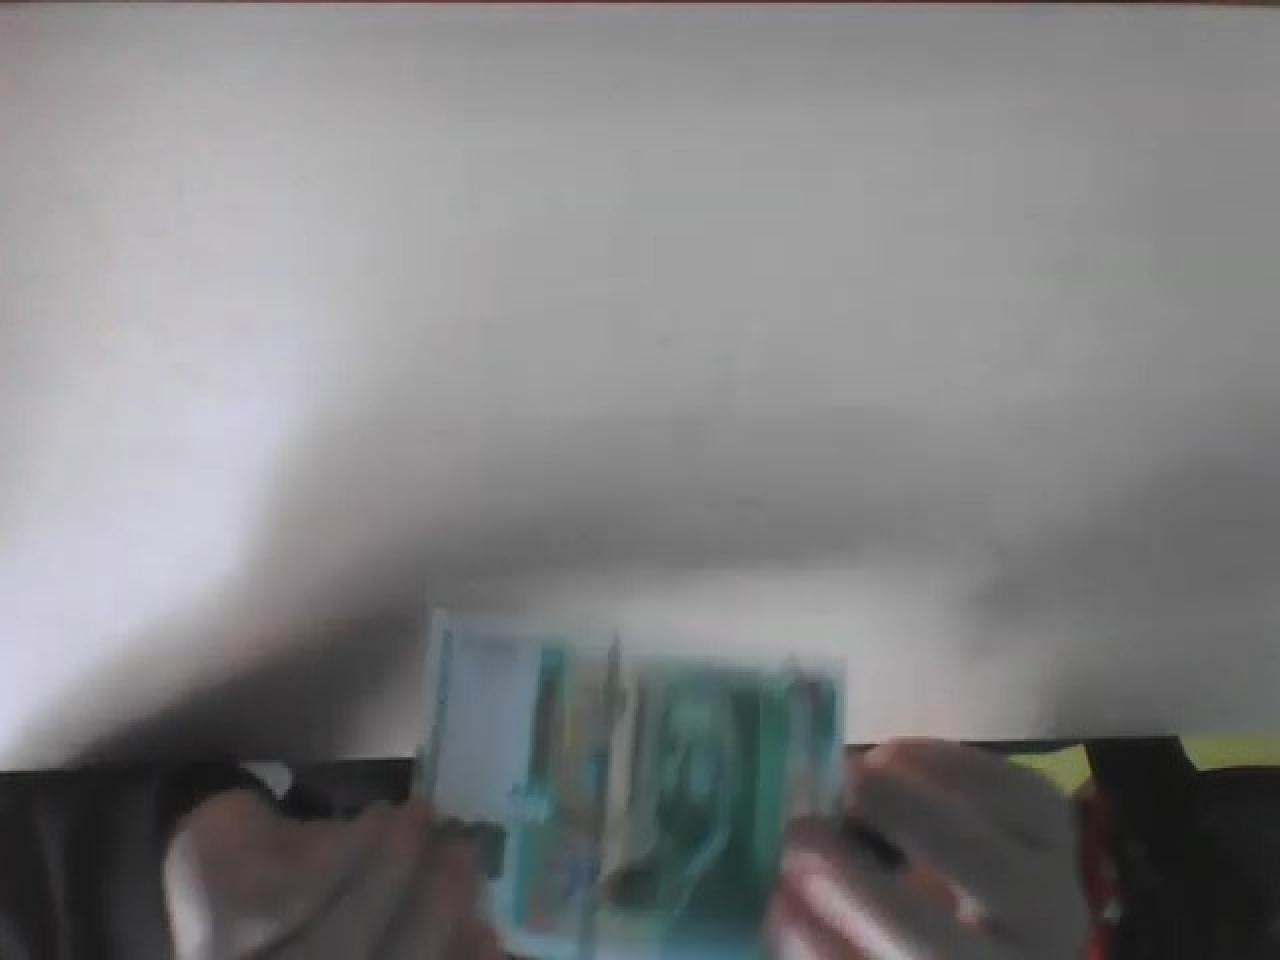100leva: (408, 608, 848, 960)
